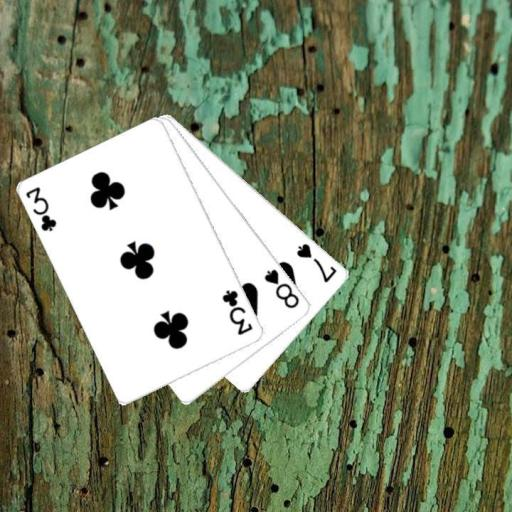3C: (219, 287, 255, 337), (23, 184, 59, 234)
7S: (294, 240, 339, 285)
8S: (261, 265, 301, 310)
